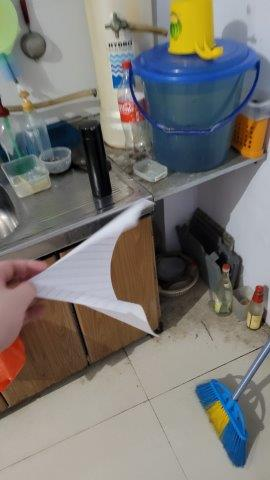kertas: (13, 199, 162, 340)
